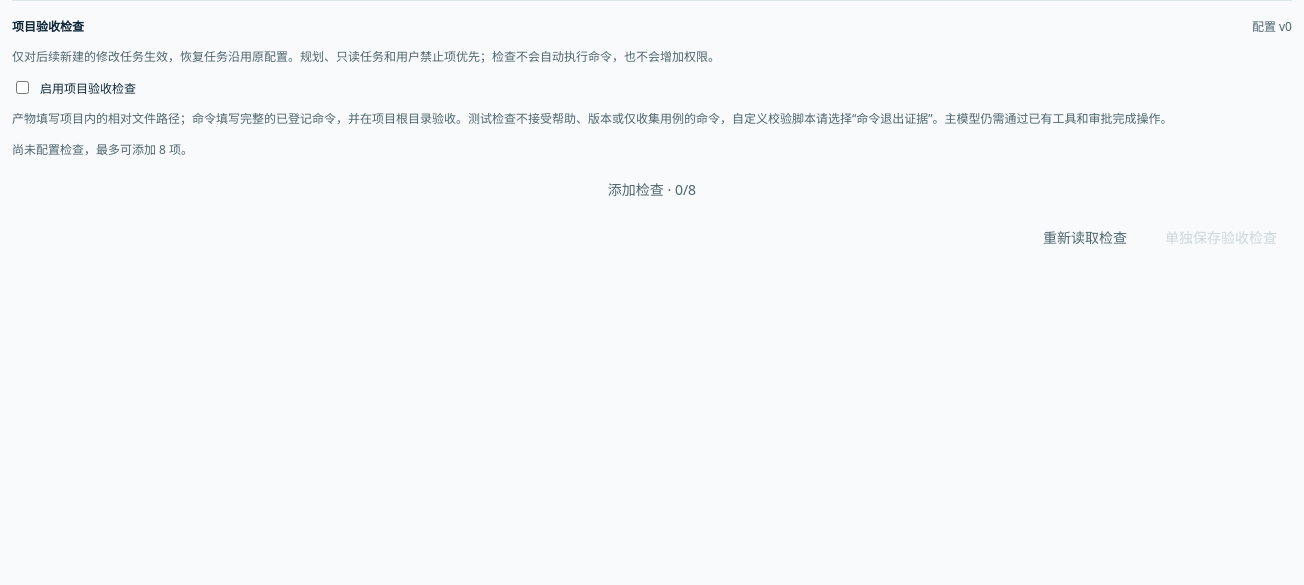
Test: 项目验收检查 › 默认关闭，编辑后独立保存版本与范围，不运行命令
Check: the button with test id "observer-config-save" is disabled, box [1150,220,1292,256]
Click the checkbox with test id "observer-config-enabled" at x=22, y=88, box [16,81,29,94]
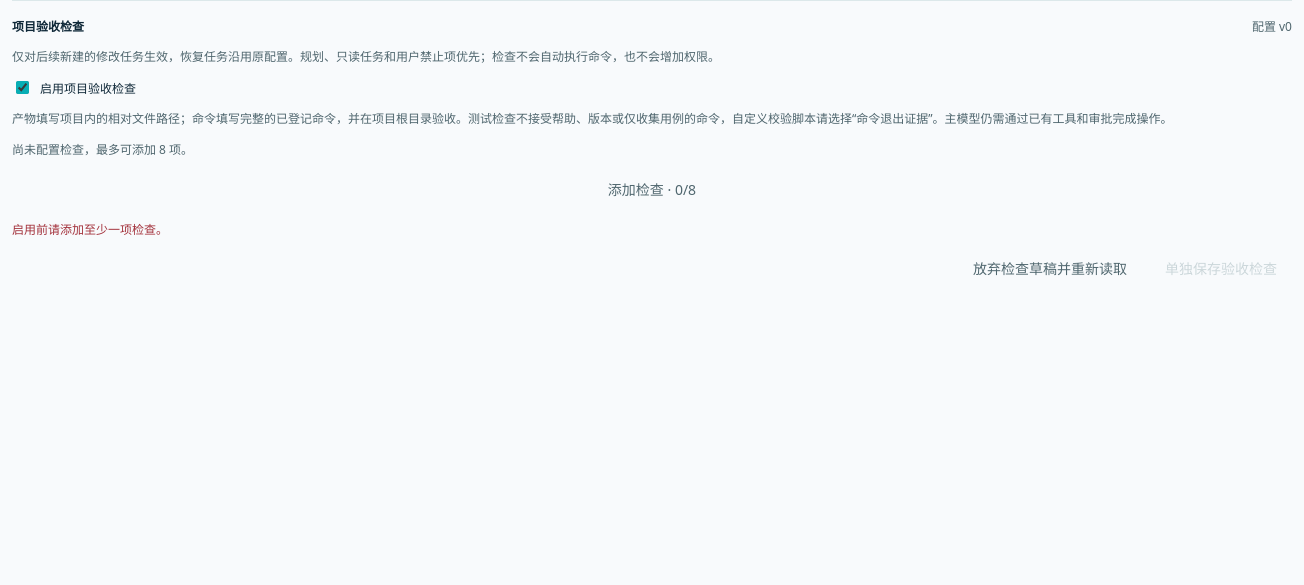
Check: the text "至少一项检查" is shown, box [12,221,168,238]
Click the button with test id "observer-config-add" at x=652, y=190, box [12,172,1292,208]
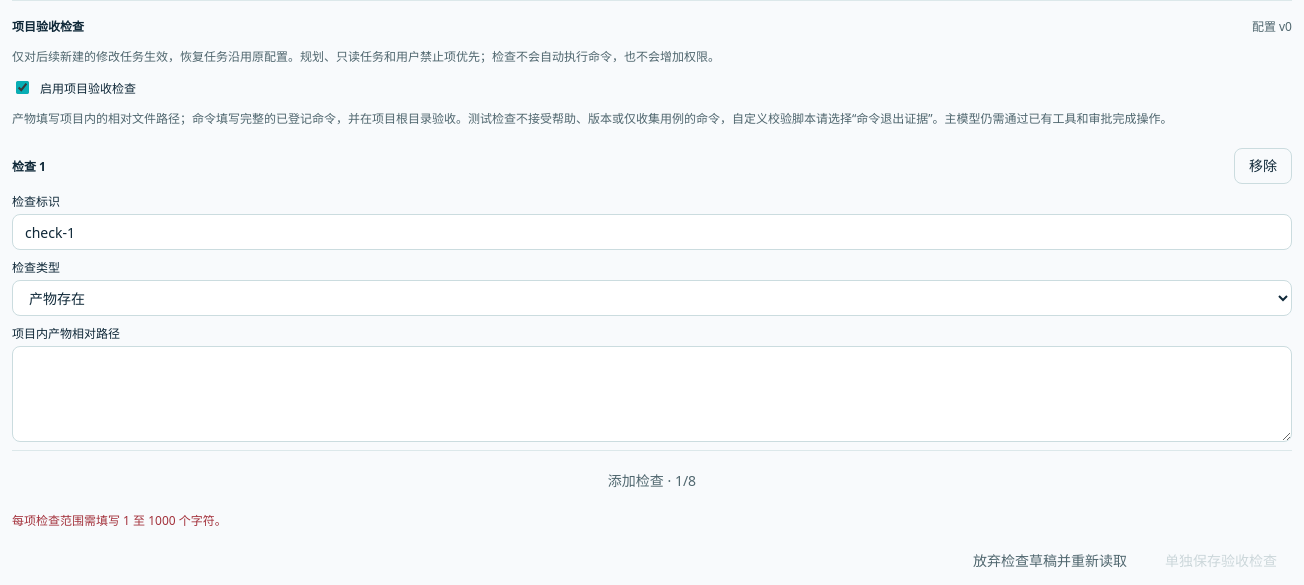
Type " dist/result.json " into the text box with test id "observer-check-scope" at x=652, y=394, box [12,346,1292,442]
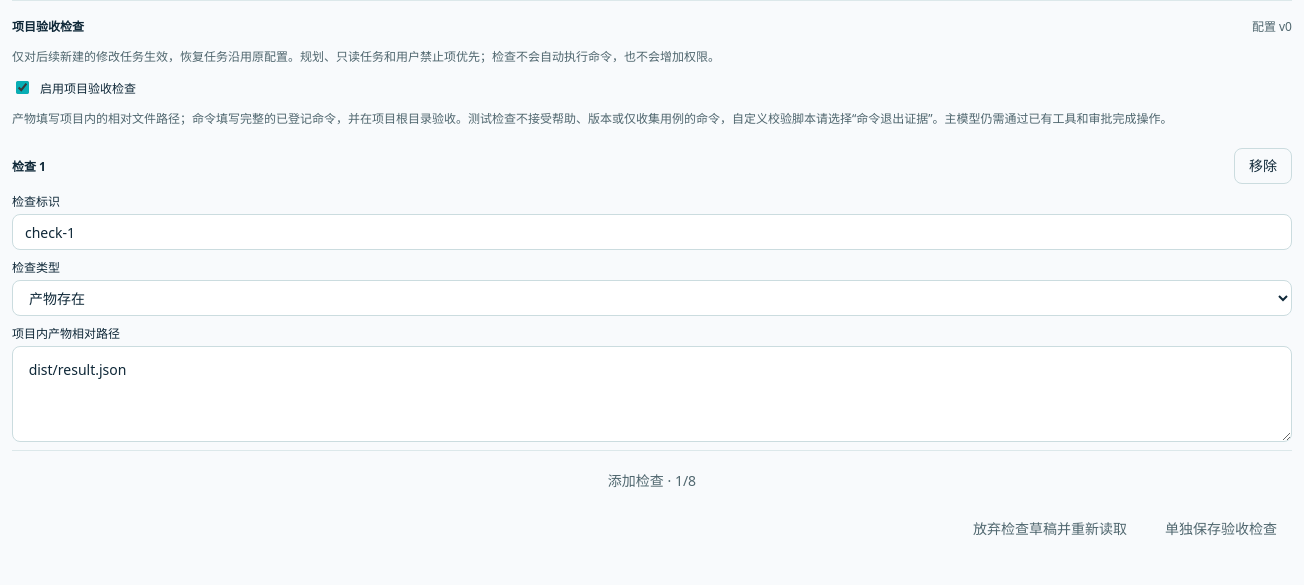
Click the button with test id "observer-config-save" at x=1221, y=529, box [1150,511,1292,547]
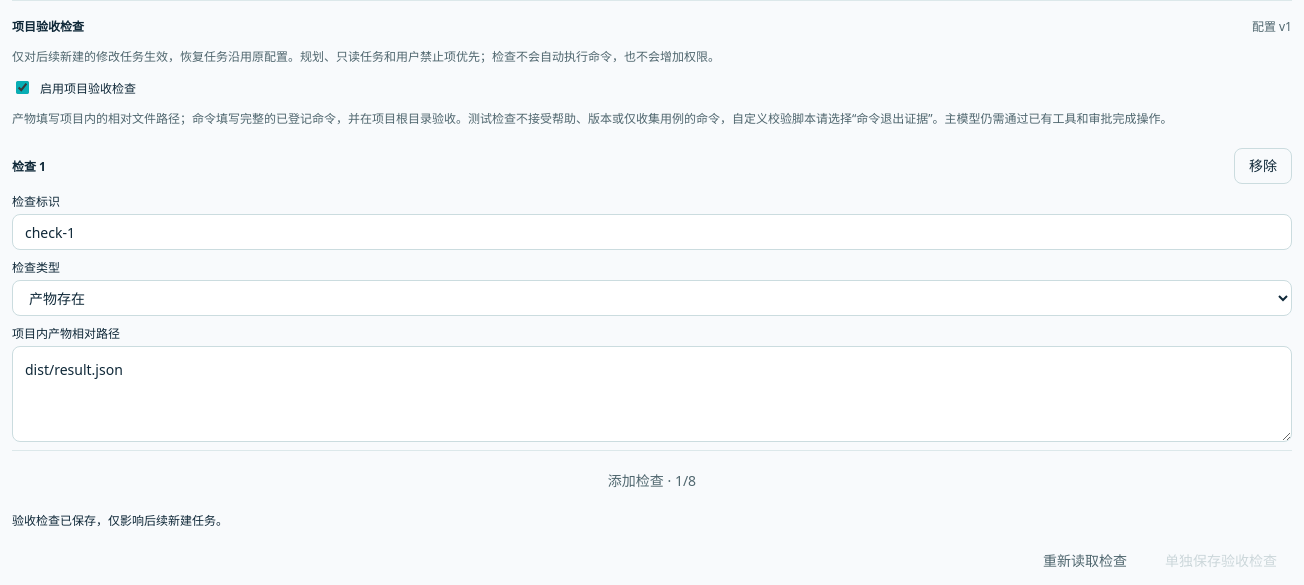
Check: the text "配置 v1" is shown, box [1252,17,1292,35]
Check: the text "验收检查已保存" is shown, box [12,512,228,529]
